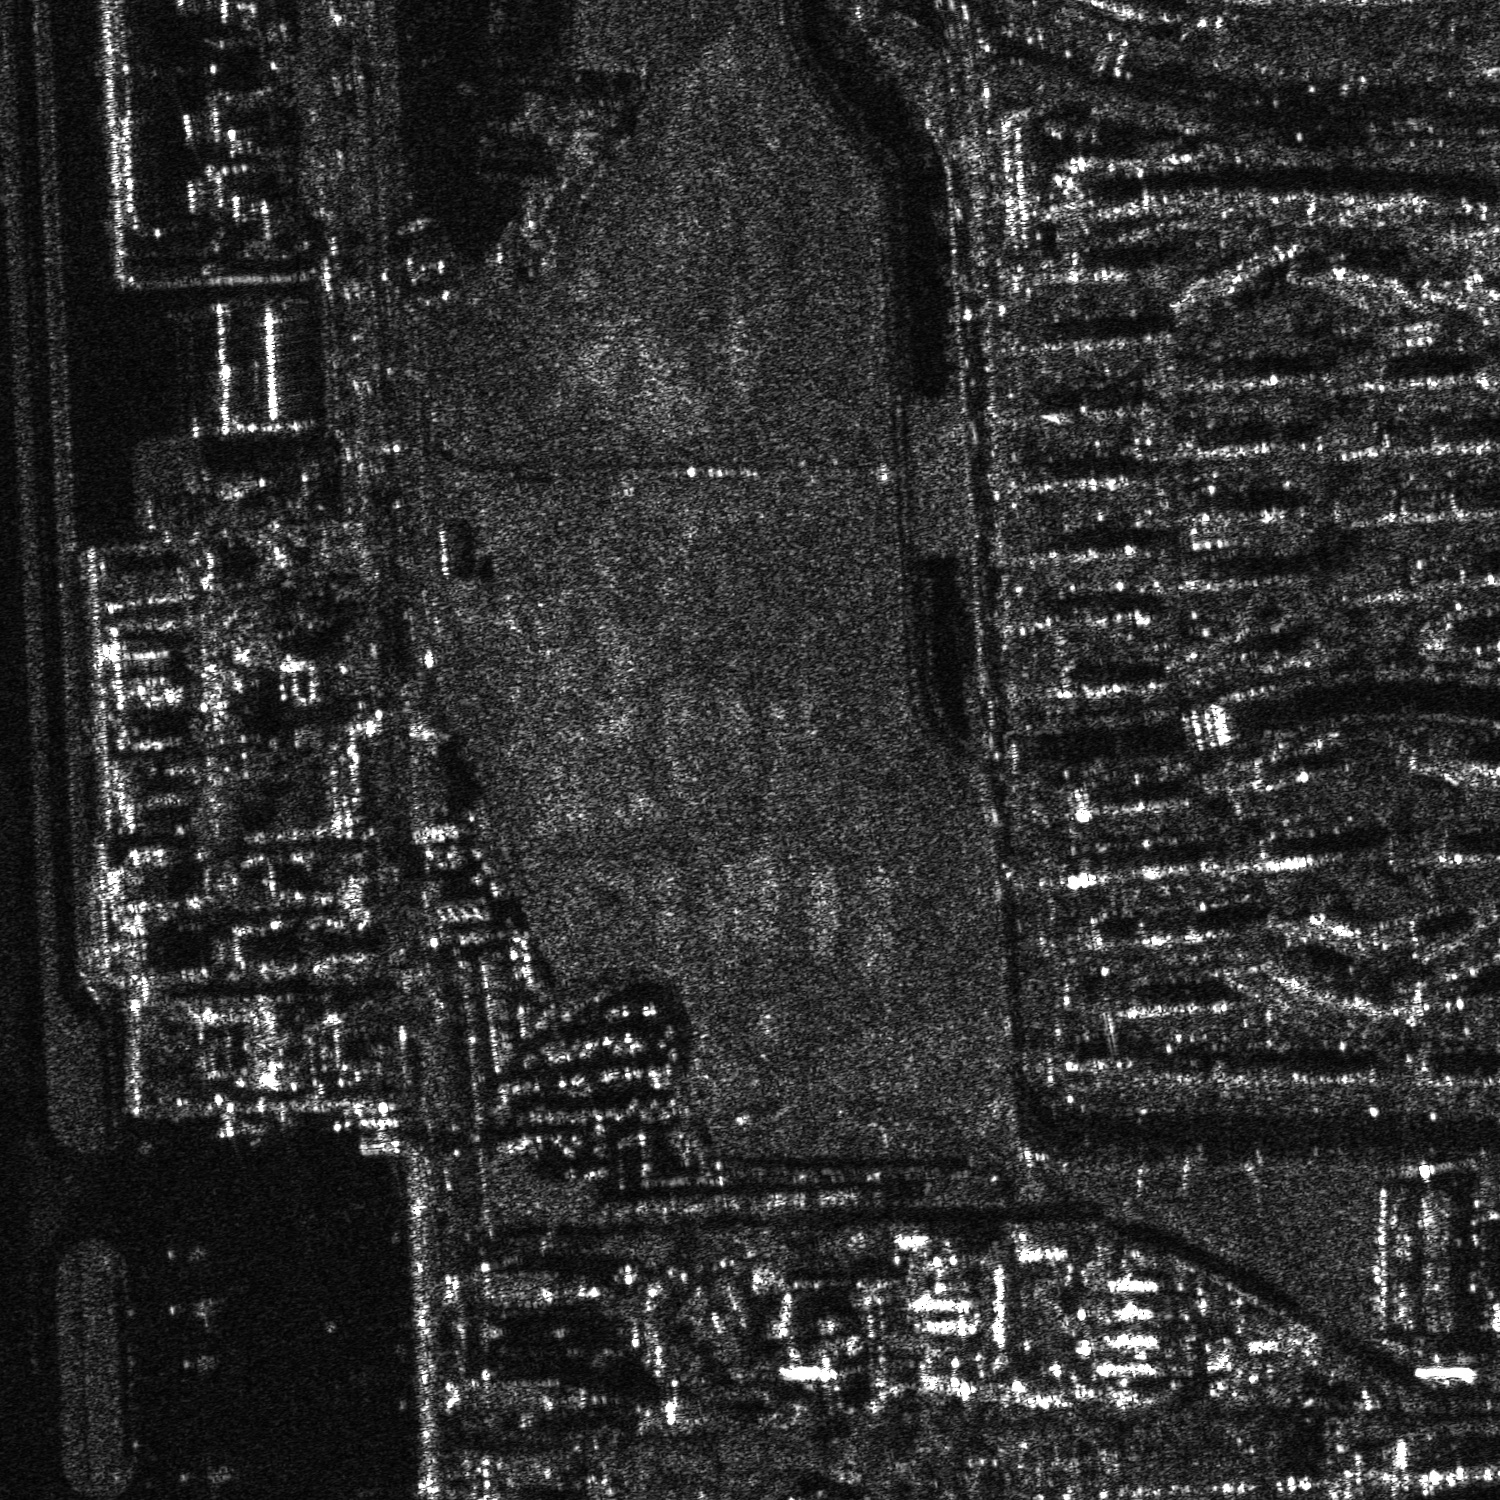ARJ21: (152, 1286, 227, 1332), (173, 1346, 227, 1378)
other: (172, 1453, 238, 1499), (159, 1235, 213, 1271)
